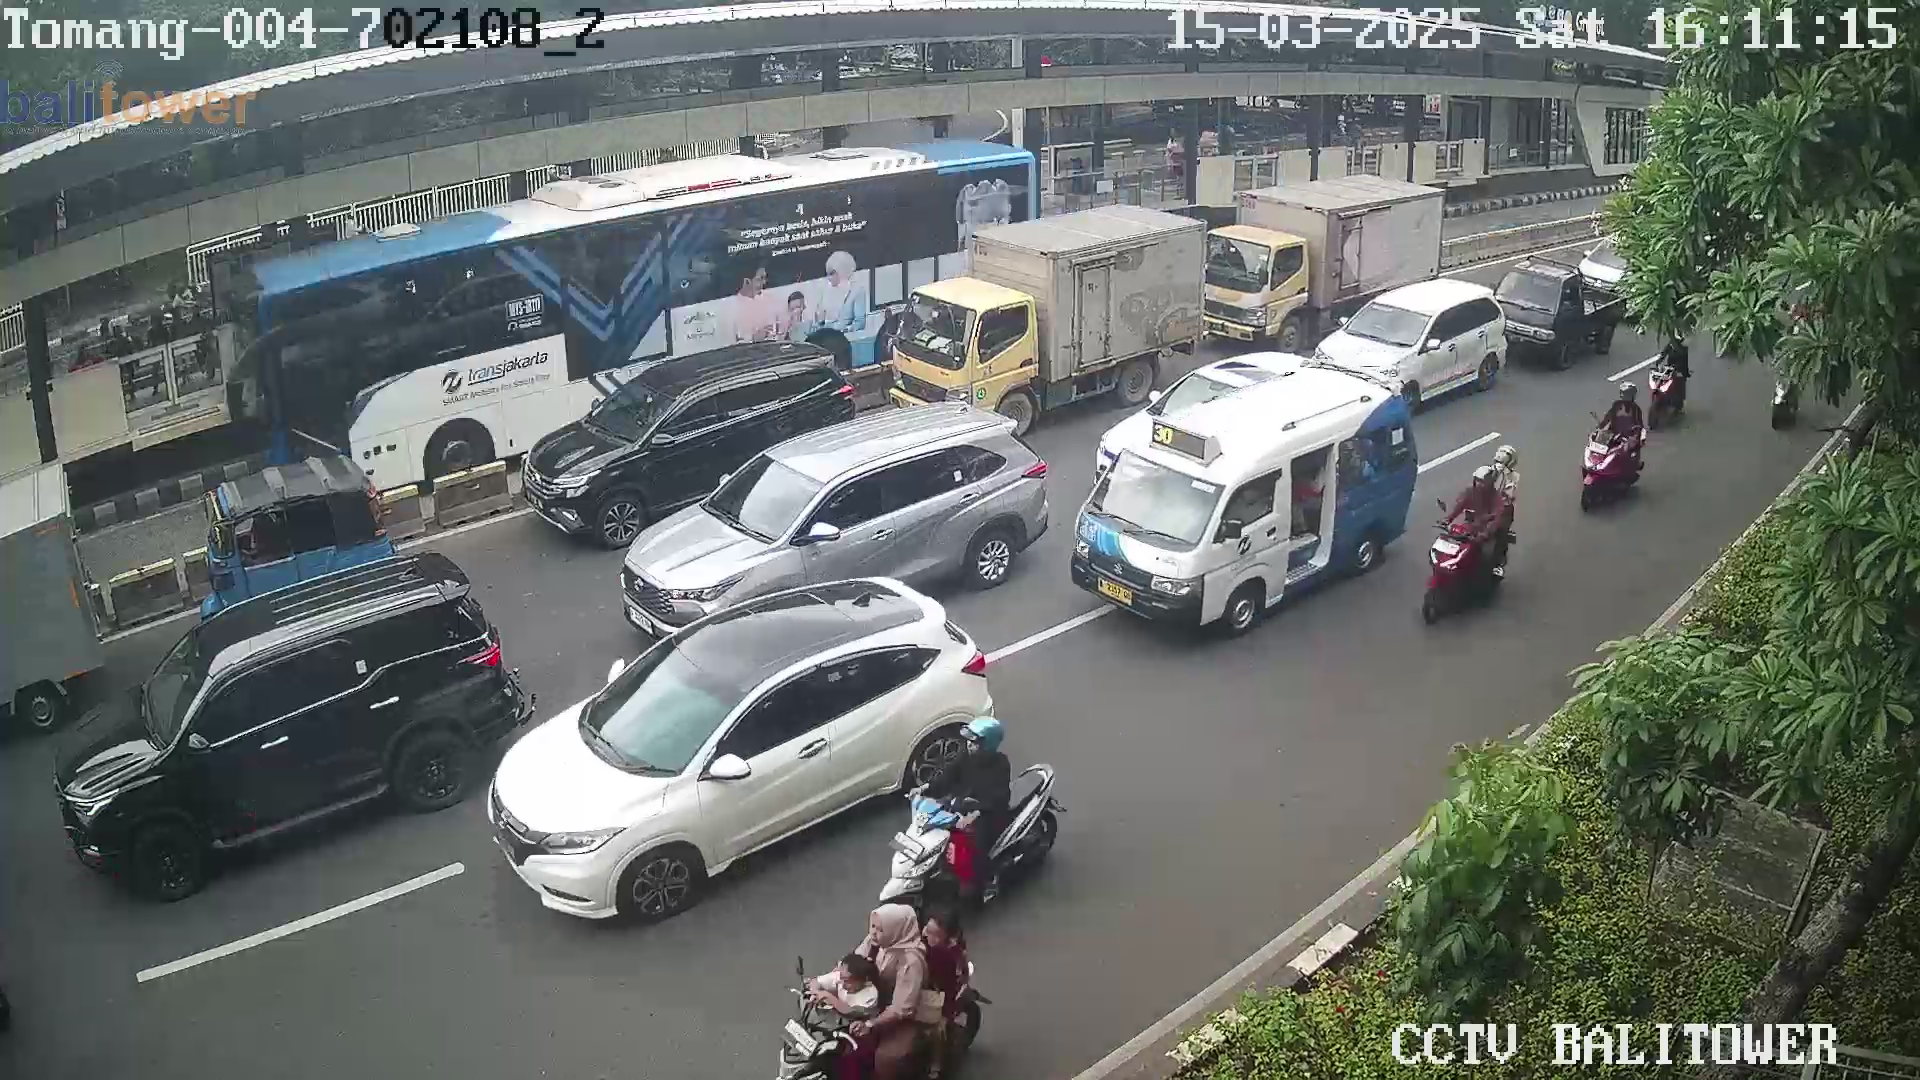half-face helmet: (951, 708, 1014, 765), (1494, 439, 1521, 482), (1472, 469, 1502, 506), (1614, 380, 1639, 418)
no helmet: (866, 902, 921, 976), (835, 945, 882, 998), (919, 904, 965, 955)
